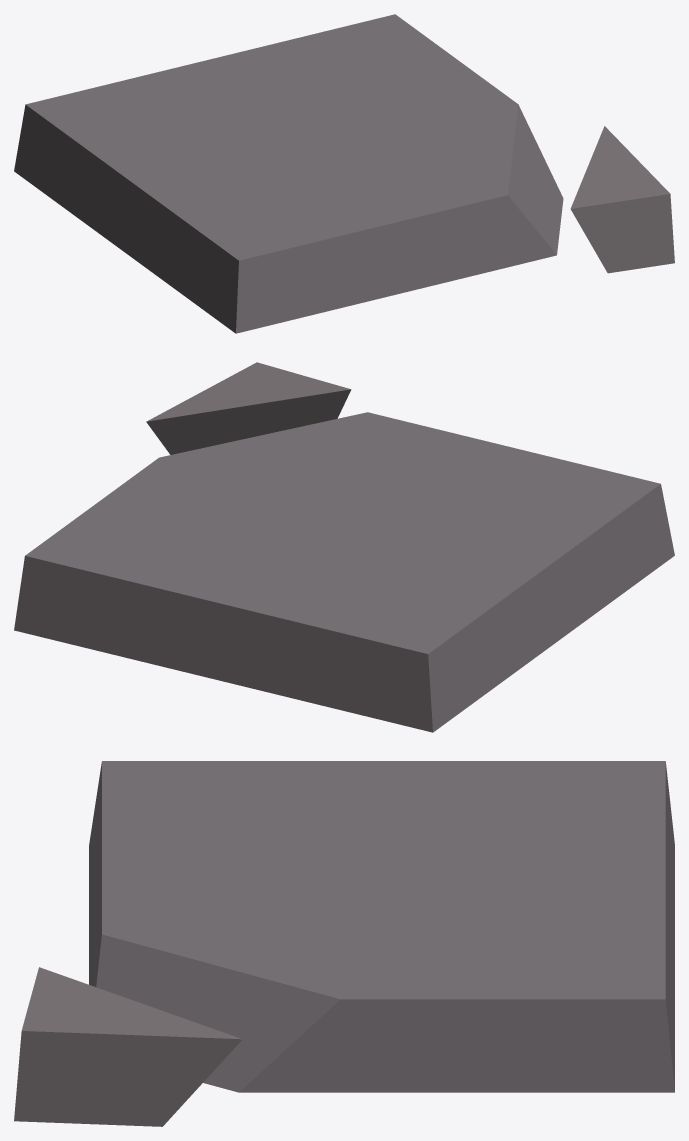
File: Rock_Tile_crk_m_06.fbx
3 views of the same model, one above another, from view 1: azimuth 30°, elevation 25°; view 2: azimuth 150°, elevation 25°; view 3: azimuth 270°, elevation 25° (orthographic). The views are drawn at different scales.
Visible parts, largest first — view 1: Rock_Tile_crk_m_06; view 2: Rock_Tile_crk_m_06; view 3: Rock_Tile_crk_m_06.
Boxes of the visible parts, left/top/right/bottom form: Rock_Tile_crk_m_06: left=14, top=14, right=674, bottom=333; Rock_Tile_crk_m_06: left=14, top=362, right=674, bottom=732; Rock_Tile_crk_m_06: left=14, top=761, right=674, bottom=1126.
Bounding box in the file's own units: 44.42 × 7.59 × 45.13.
